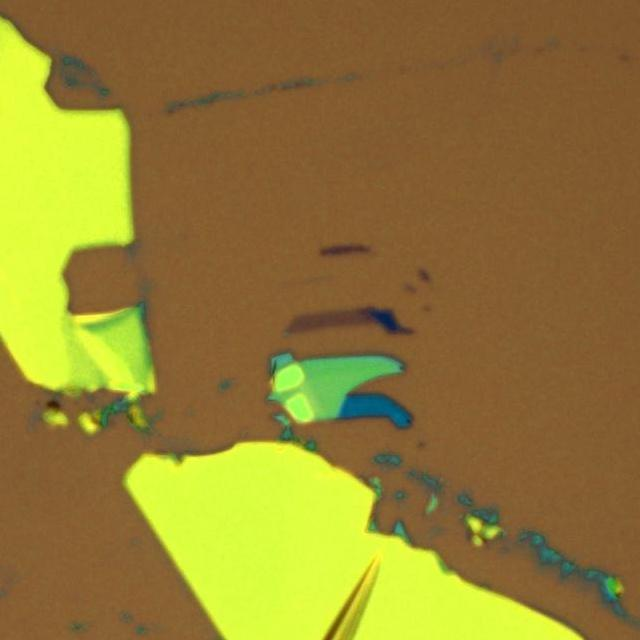monolayer-eWW4: (290, 306, 374, 331)
